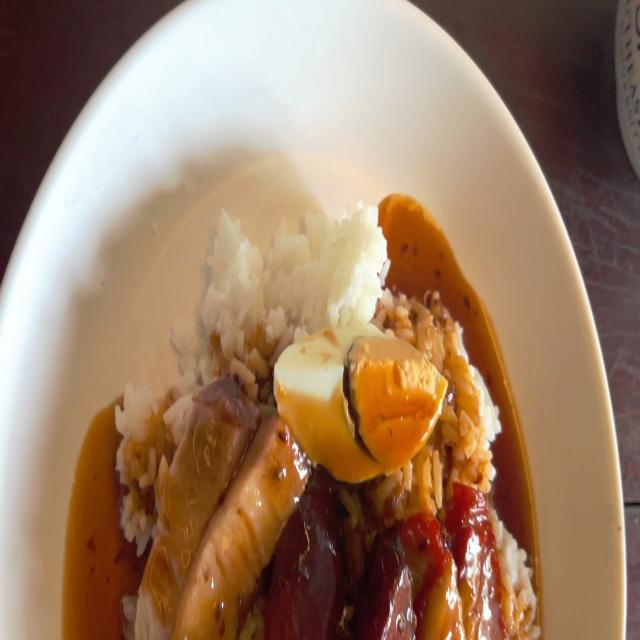boiled_egg: (273, 332, 443, 467)
chainese_sausage: (291, 484, 409, 640)
crispy_pork: (130, 380, 300, 640)
red_pork: (411, 480, 504, 640)
red_pork_and_crispy_pork: (113, 189, 540, 640)
rice: (193, 198, 388, 315)
